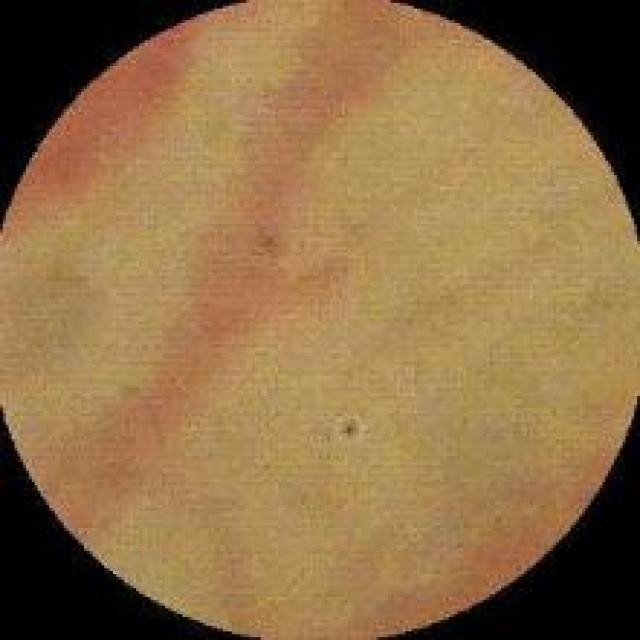color misalignment: (330, 409, 369, 454)
